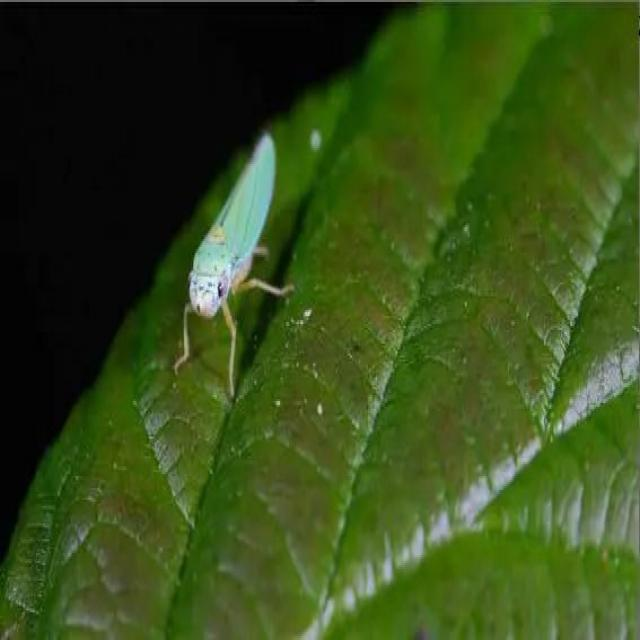Yechan: (182, 127, 283, 331)
